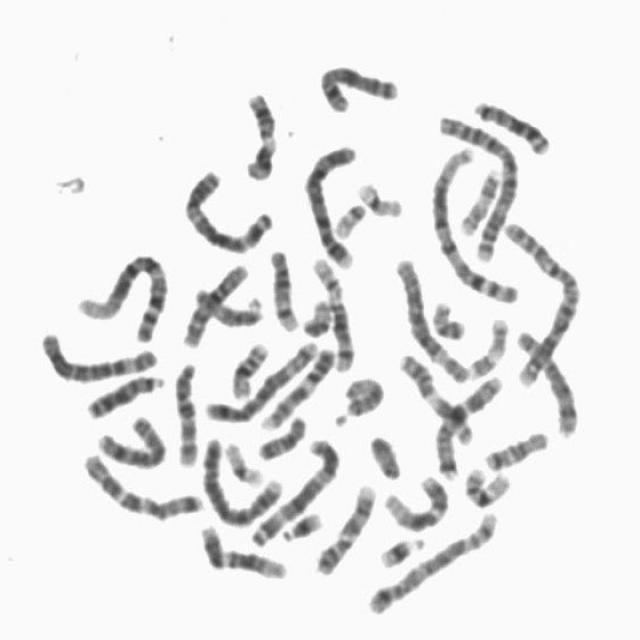A1: (425, 116, 525, 308), (71, 243, 174, 344)
A2: (497, 212, 585, 391), (433, 104, 524, 268)
A3: (246, 430, 344, 547), (178, 161, 279, 254)
B4: (197, 429, 286, 527), (301, 136, 362, 270)
B5: (362, 502, 503, 617), (200, 333, 327, 424)
C10: (178, 256, 253, 349), (169, 354, 204, 468)
C11: (394, 344, 478, 446), (239, 83, 282, 182)
C12: (194, 518, 290, 581), (381, 468, 454, 534)
C6: (391, 248, 473, 385), (36, 322, 164, 385)
C7: (77, 443, 208, 522), (432, 366, 506, 481)
C8: (512, 320, 584, 439), (92, 406, 172, 471)
C9: (257, 339, 338, 432), (311, 476, 380, 576)
D13: (468, 91, 556, 157), (82, 366, 169, 420)
D14: (264, 240, 304, 333), (322, 286, 360, 373)
D15: (190, 280, 268, 328), (332, 368, 388, 427)
E16: (227, 333, 274, 400), (460, 459, 516, 508)
E17: (455, 162, 505, 237), (464, 309, 512, 380)
E18: (480, 422, 553, 472), (252, 408, 311, 462)
F19: (220, 432, 268, 488), (352, 173, 408, 219)
F20: (427, 294, 470, 342), (298, 291, 336, 338)
G21: (374, 528, 428, 570), (278, 503, 327, 543)
G22: (308, 250, 348, 300), (329, 194, 370, 240)
X: (314, 55, 405, 115)
Y: (364, 426, 406, 481)
